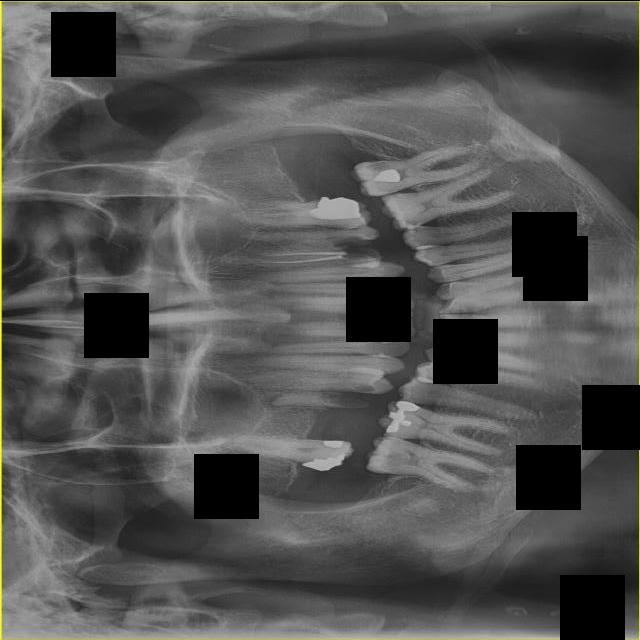72: (401, 497, 440, 515)
74: (262, 253, 347, 266), (266, 250, 346, 255)
NucleOSS Implant: (376, 392, 420, 437), (309, 197, 360, 219), (301, 452, 349, 474), (371, 168, 401, 182), (321, 439, 344, 447), (400, 417, 413, 426)
Sterngold Implant: (330, 238, 381, 263), (321, 388, 372, 410), (331, 236, 375, 249), (379, 447, 406, 468), (361, 160, 387, 170), (349, 382, 375, 391), (401, 217, 421, 227), (372, 277, 396, 283), (385, 186, 400, 193), (410, 225, 424, 232), (388, 192, 401, 196)
Straumann Implant: (379, 317, 403, 324), (376, 334, 399, 340), (382, 312, 403, 317), (378, 339, 394, 344)
